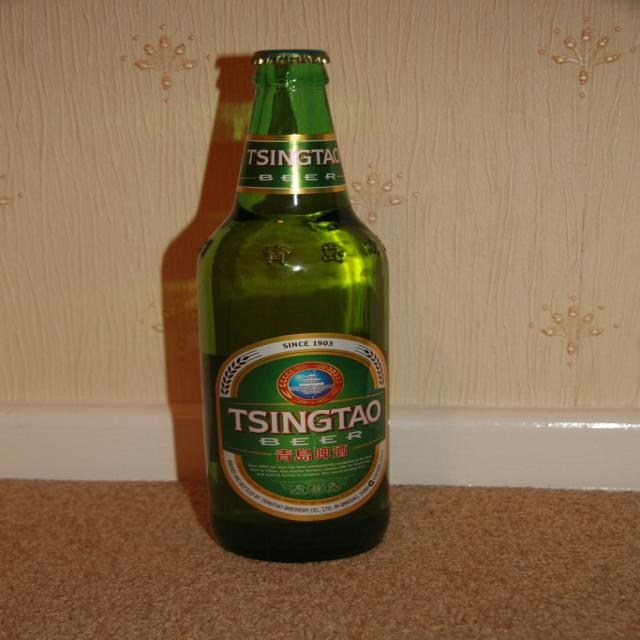tsingtao: (215, 333, 392, 523)
